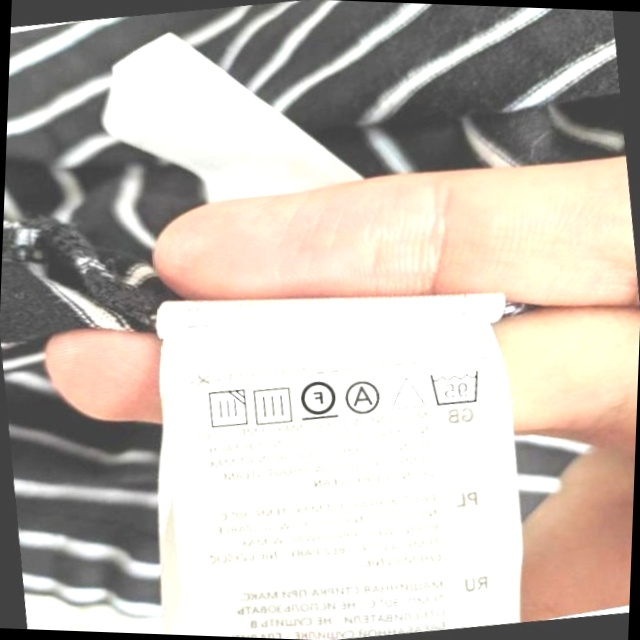95C: (425, 364, 485, 410)
bleach: (388, 370, 427, 415)
drip_dry: (248, 381, 297, 428)
drip_dry_in_shade: (200, 385, 250, 434)
dry_clean: (342, 376, 385, 417)
dry_clean_petrol_only: (296, 374, 340, 424)
